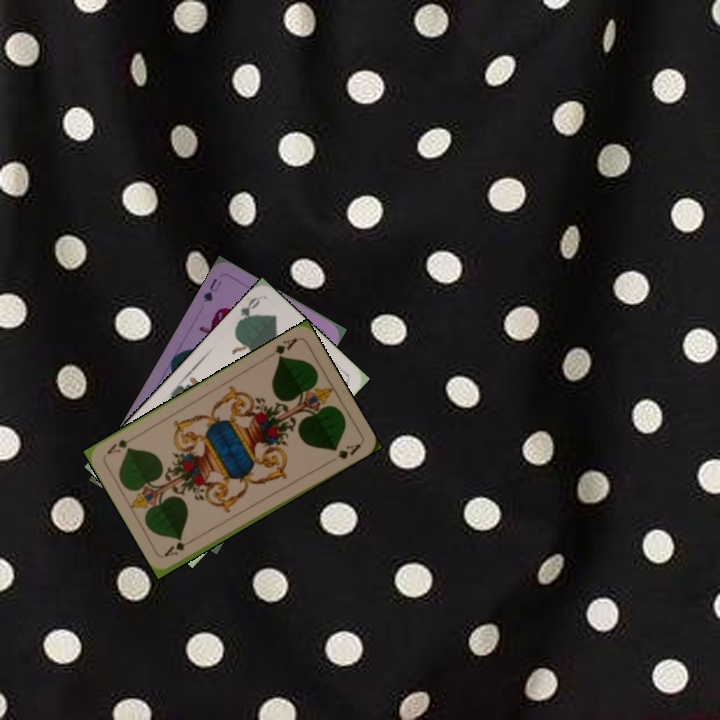GA: (263, 333, 300, 362), (160, 534, 198, 559)
GO: (232, 293, 262, 329)
GU: (199, 274, 224, 305)
